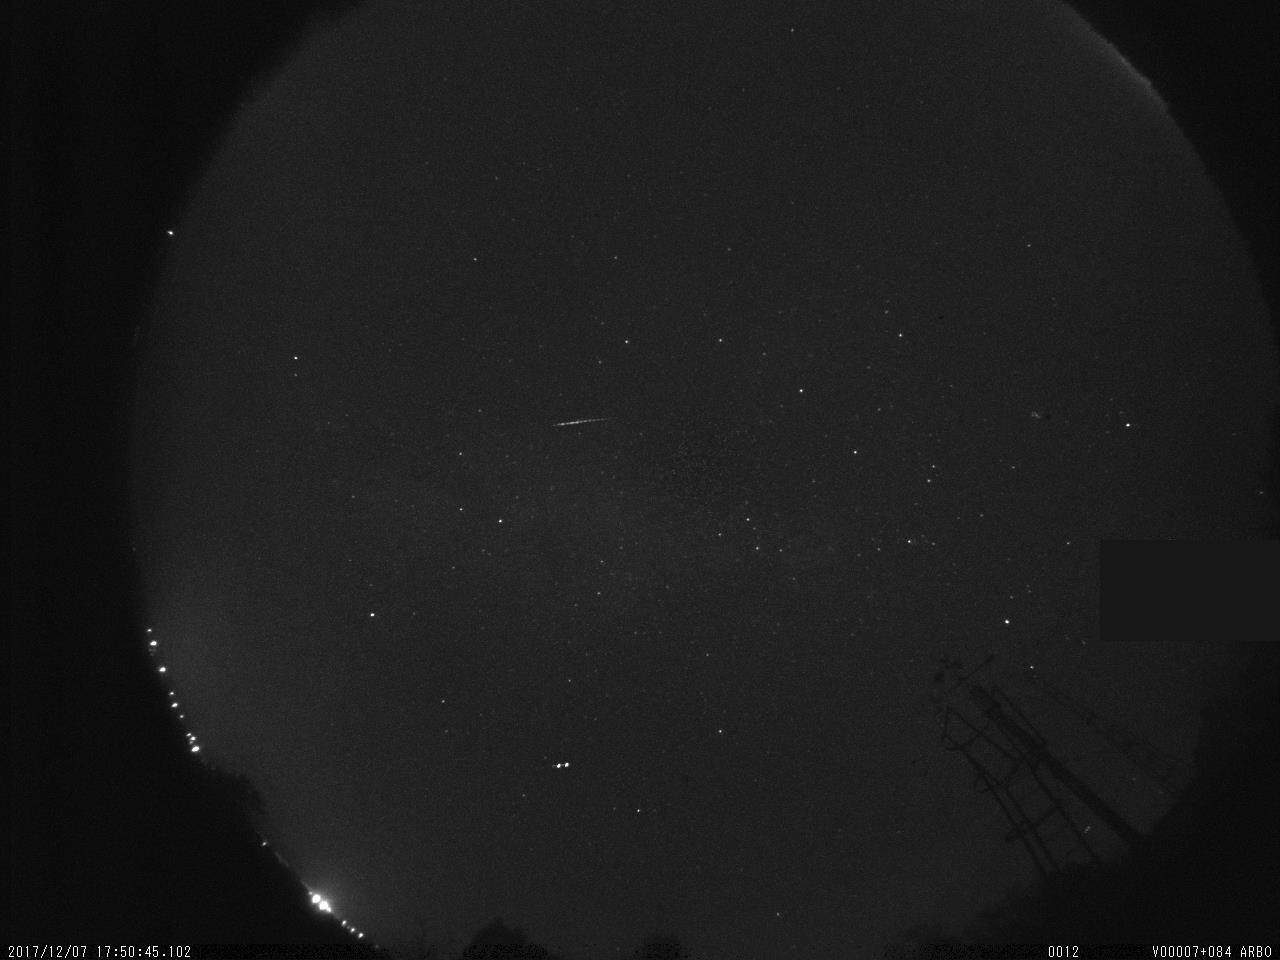meteor: (544, 411, 604, 437)
